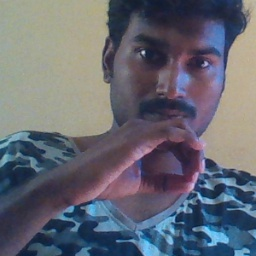O: (71, 104, 213, 205)
